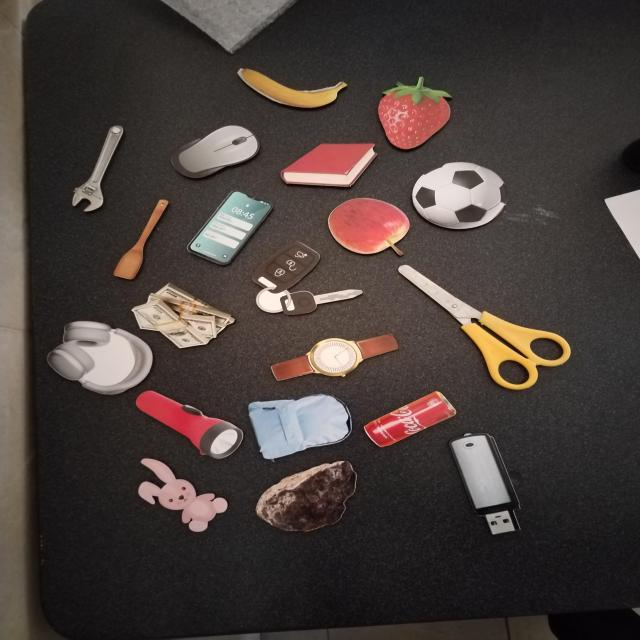Other Objects: (398, 264, 571, 390), (229, 237, 364, 338), (398, 151, 520, 241), (120, 387, 250, 465), (446, 429, 529, 538), (245, 386, 360, 462), (46, 320, 154, 395), (255, 460, 357, 532), (131, 282, 236, 349), (137, 457, 228, 532), (163, 119, 267, 184), (186, 190, 273, 266), (268, 334, 401, 381), (363, 390, 456, 448), (112, 196, 173, 281), (69, 122, 125, 214), (327, 197, 410, 256), (236, 68, 348, 109)
